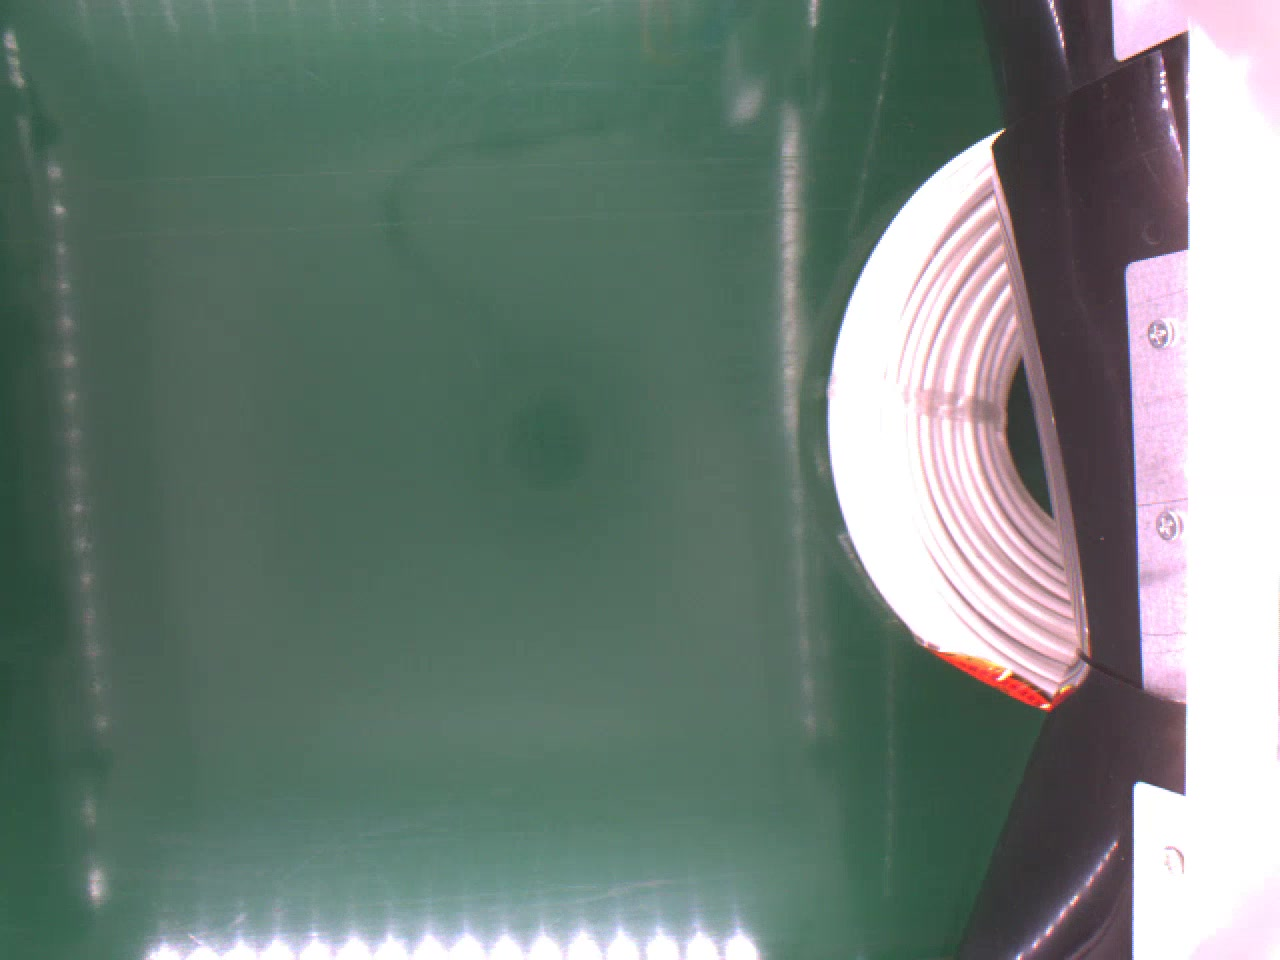white: (823, 117, 1079, 704)
